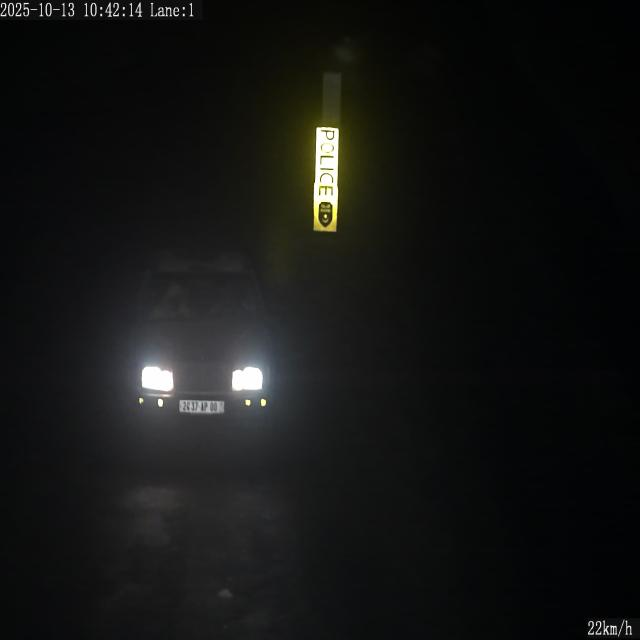BUS: (180, 400, 224, 413)
